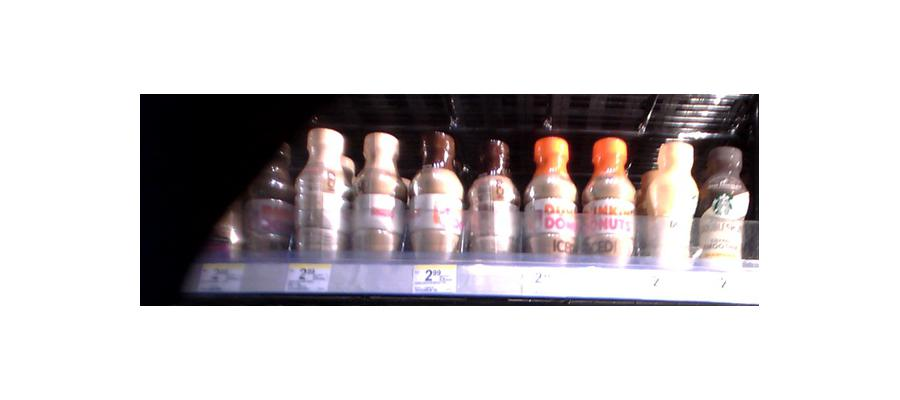bottle: (406, 127, 463, 261), (521, 132, 579, 260), (294, 125, 349, 258), (581, 136, 636, 267), (643, 139, 698, 269), (350, 133, 404, 258), (244, 126, 293, 259), (697, 143, 747, 269), (467, 139, 520, 257)
